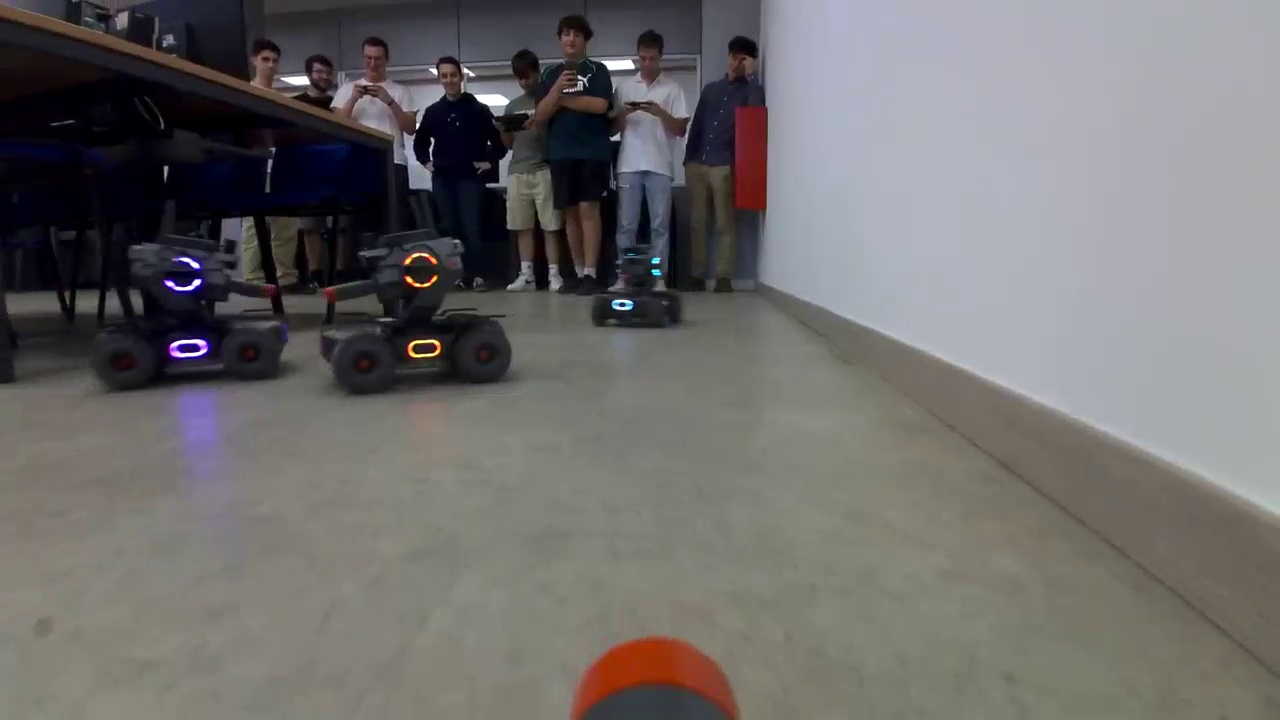robot: (330, 247, 510, 395), (110, 235, 278, 382), (593, 262, 678, 320)
